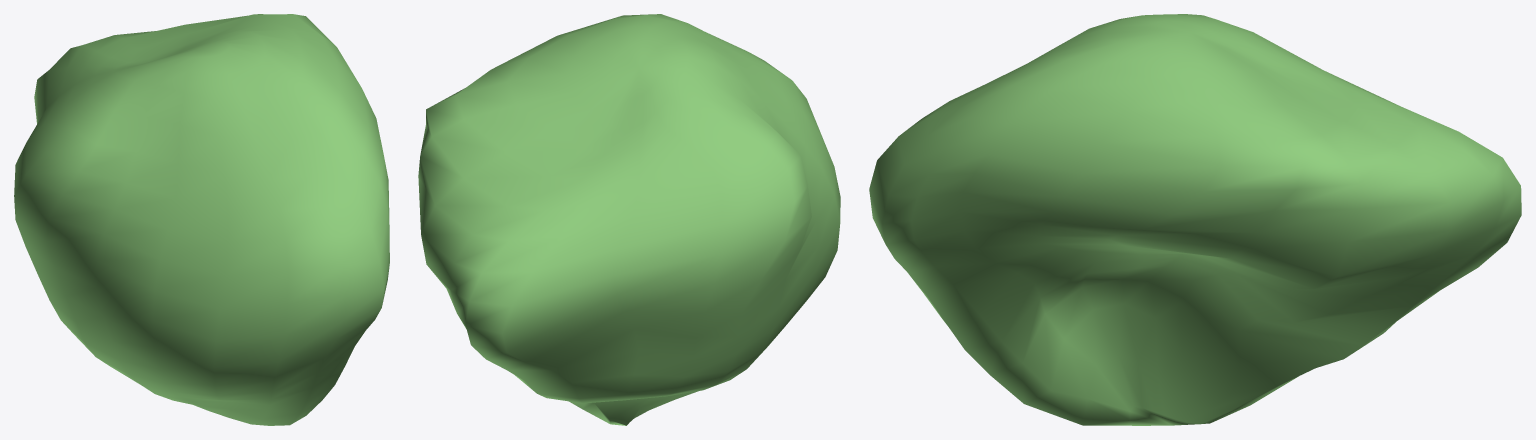
The model's file is Mesh_Blattwerk_4.fbx.
3 renders of one model, left to right at view 1: azimuth 30°, elevation 25°; view 2: azimuth 150°, elevation 25°; view 3: azimuth 270°, elevation 25°, orthographic. The views are drawn at different scales.
Visible parts, largest first — view 1: Blattwerk1; view 2: Blattwerk1; view 3: Blattwerk1.
Part boxes in pixels (x1,y1,x2,y2): Blattwerk1: (14, 14, 389, 425); Blattwerk1: (418, 14, 840, 425); Blattwerk1: (869, 14, 1521, 425).
Bounding box in the file's own units: 37.43 × 39.25 × 58.06.
